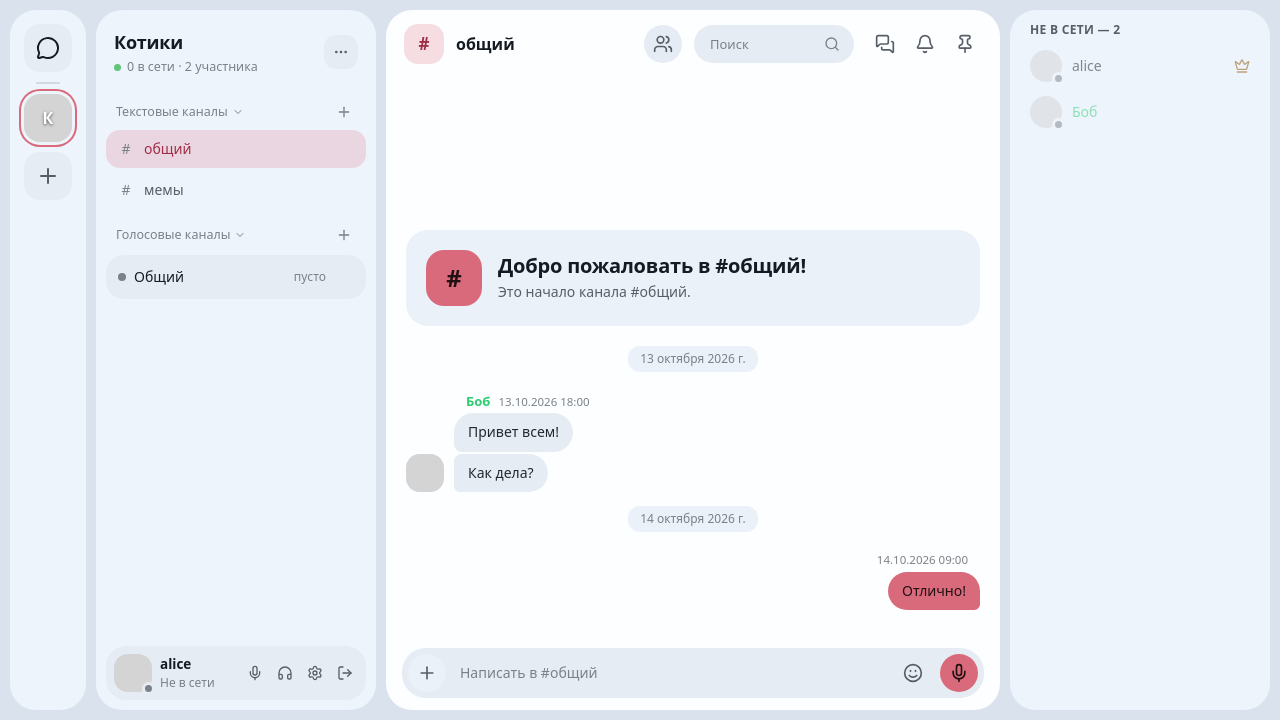
Scenario: sending › offers to retry a message that failed to send
This screenshot has width=1280, height=720.
In the text box named "Сообщение в #общий": (670, 673) [454,654,886,692], type "Потерянное"
Then press Enter
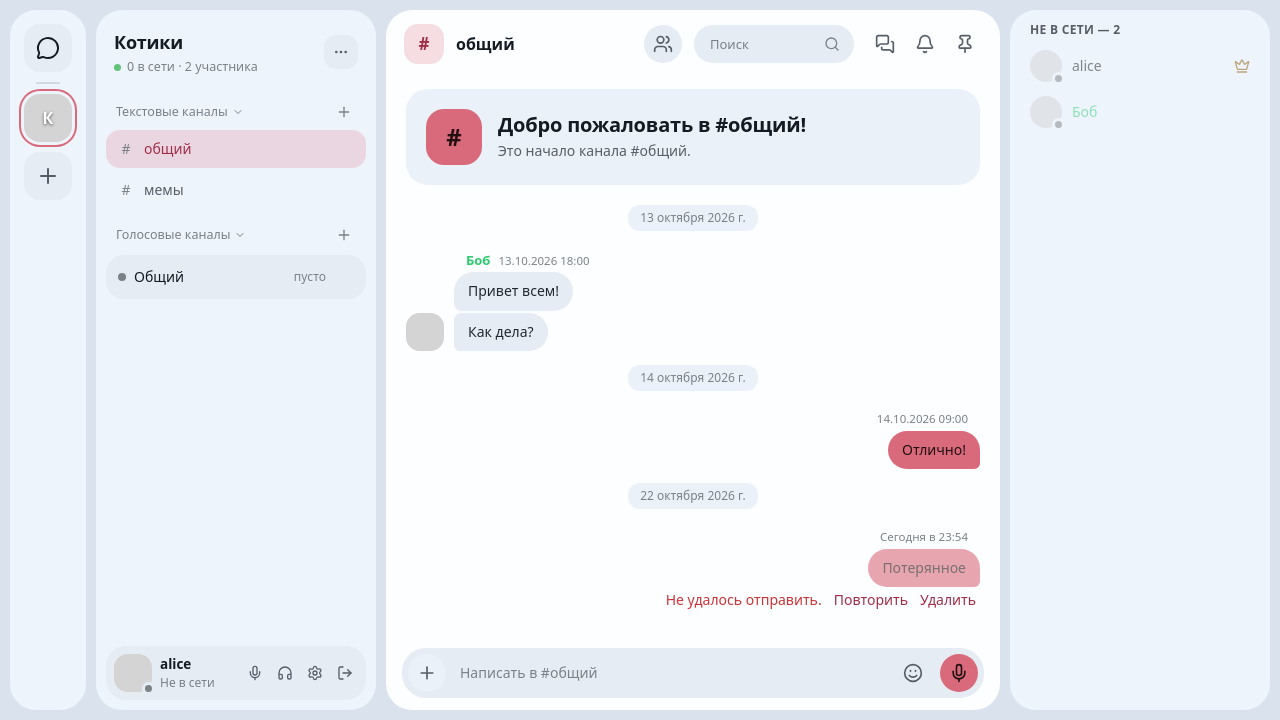
Expected: the message shows "Не удалось отправить.", [666,590,822,609]
Click the button "Повторить": (871, 600) [834,590,908,610]
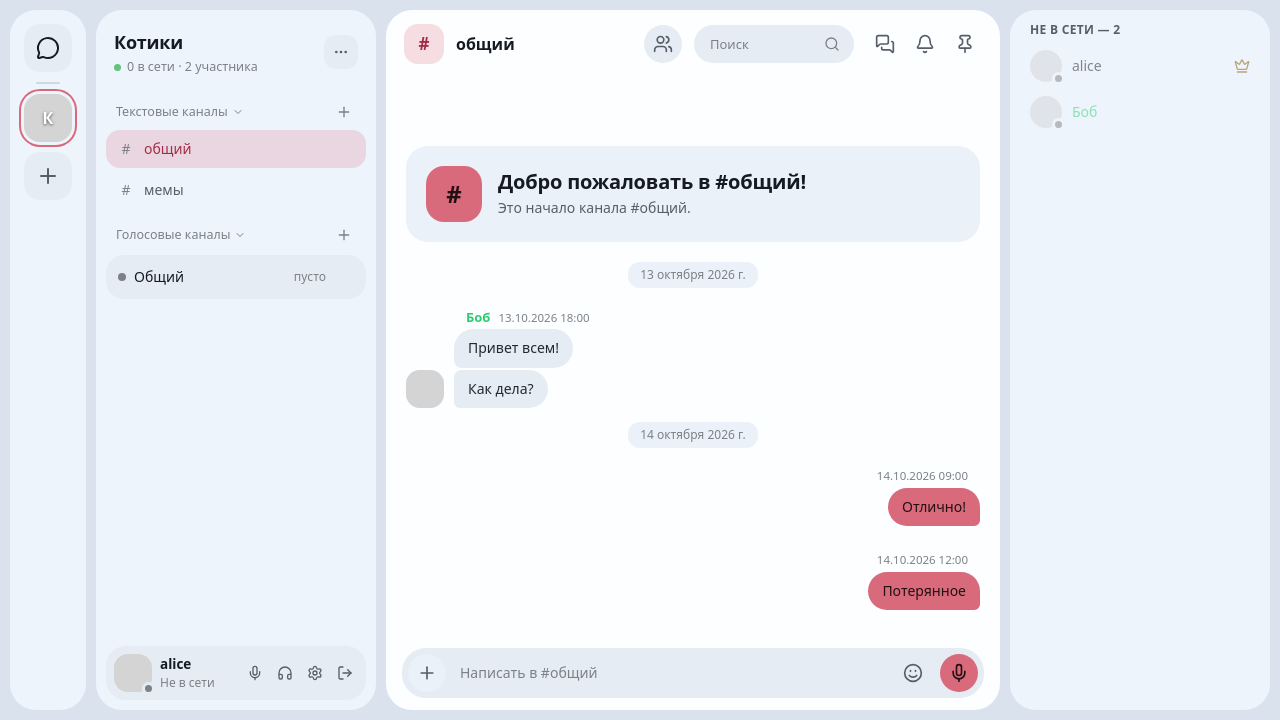
Expected: the text "Потерянное" is shown once, [882,581,966,601]
Expected: the message "Не удалось отправить. Повторить Удалить" is gone
